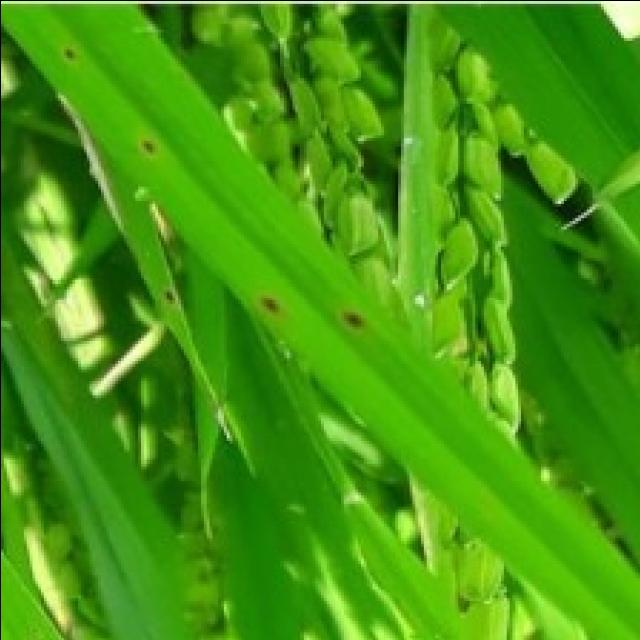Unhealthy: (334, 301, 371, 335), (256, 288, 289, 319), (132, 134, 169, 161), (57, 38, 84, 75), (158, 289, 178, 307)
